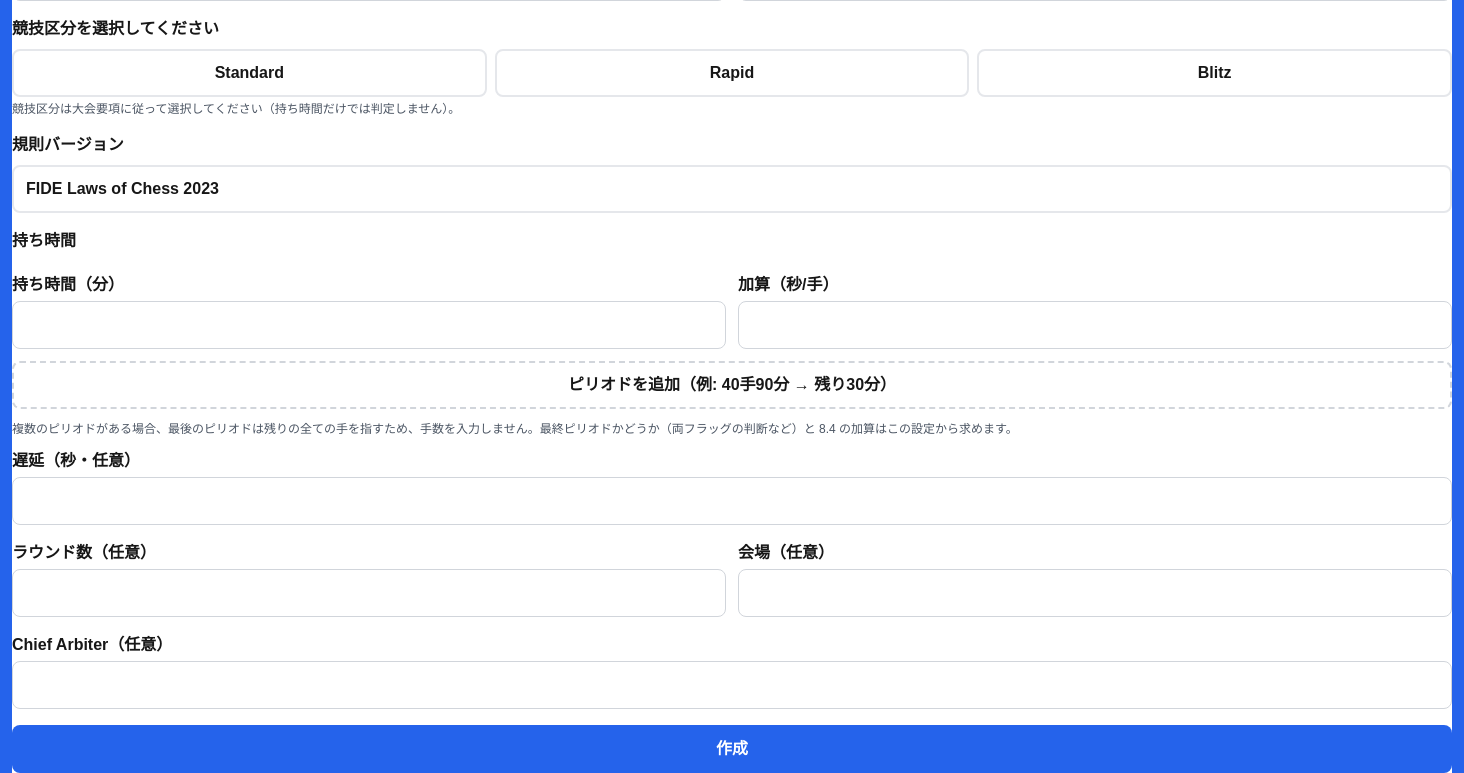
it: TournamentProfileForm › shows validation errors and does not submit an incomplete profile
This screenshot has width=1464, height=773.
(page scrolled)
Click the button "作成". click: (732, 749)
box: [12, 725, 1452, 772]
(page scrolled)
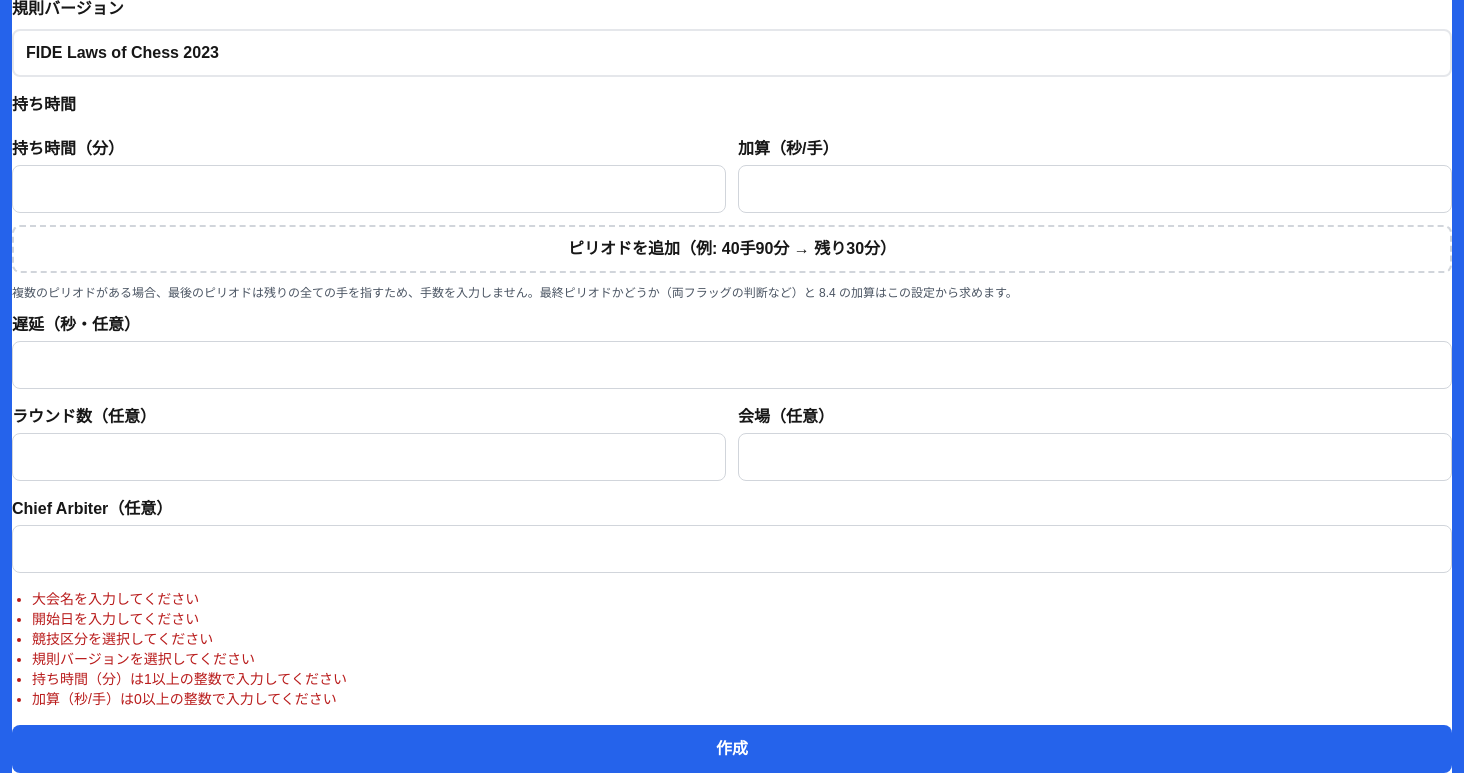
Now the list item "競技区分を選択してください" is shown, box [32, 631, 213, 647]
